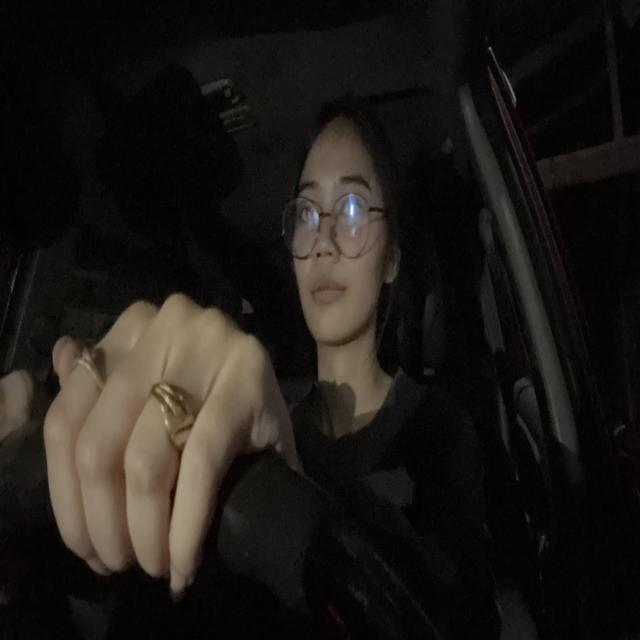open: (332, 174, 372, 227), (292, 172, 318, 238)
